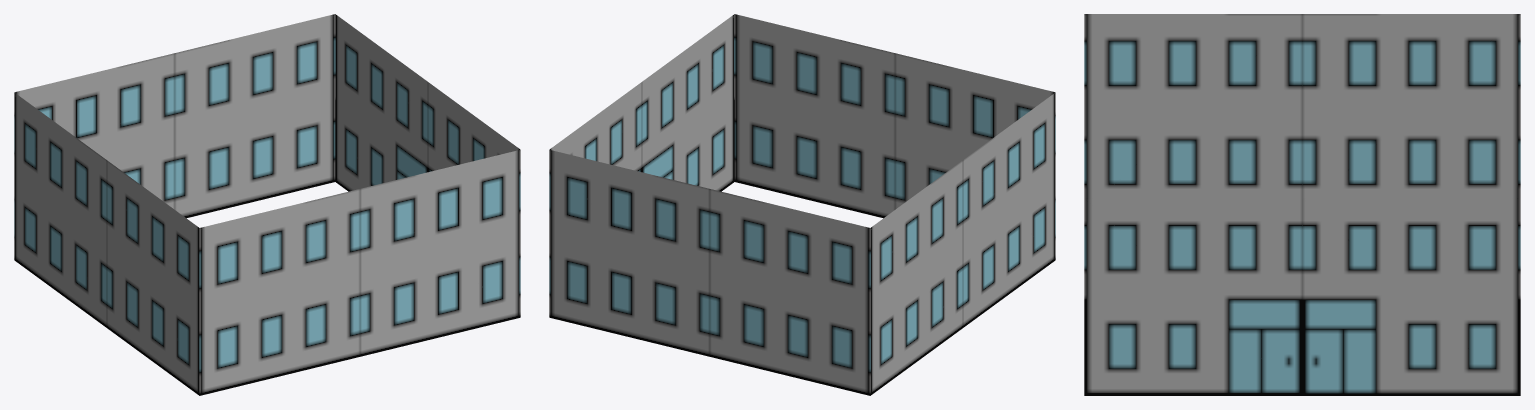
Rendered from OfficeBase.fbx.
3 renders of one model, left to right at view 1: azimuth 30°, elevation 25°; view 2: azimuth 150°, elevation 25°; view 3: azimuth 270°, elevation 25°, orthographic. The views are drawn at different scales.
Parts seen in each view (by area): view 1: Cube.005, Cube.002, Cube.006, Cube.003, Cube.004, Cube.001, Cube.008, Cube.007; view 2: Cube.001, Cube.006, Cube.002, Cube.004, Cube.003, Cube.005, Cube.007, Cube.008; view 3: Cube.007, Cube.008, Cube.003, Cube.004.
Boxes of the visible parts, box(x1,y1,x2,y2) form: Cube.005: box(199, 189, 360, 395); Cube.002: box(174, 14, 335, 218); Cube.006: box(360, 149, 520, 356); Cube.003: box(14, 92, 106, 327); Cube.004: box(107, 160, 199, 395); Cube.001: box(15, 53, 174, 209); Cube.008: box(335, 14, 427, 191); Cube.007: box(428, 82, 519, 172); Cube.001: box(709, 189, 870, 395); Cube.006: box(734, 14, 895, 218); Cube.002: box(549, 149, 709, 356); Cube.004: box(963, 92, 1055, 327); Cube.003: box(870, 160, 962, 395); Cube.005: box(895, 53, 1054, 209); Cube.007: box(642, 14, 734, 191); Cube.008: box(550, 82, 641, 172); Cube.007: box(1084, 198, 1302, 395); Cube.008: box(1302, 198, 1520, 395); Cube.003: box(1302, 14, 1520, 198); Cube.004: box(1084, 14, 1302, 198).
Bounding box in the file's own units: 200 × 100 × 200.
